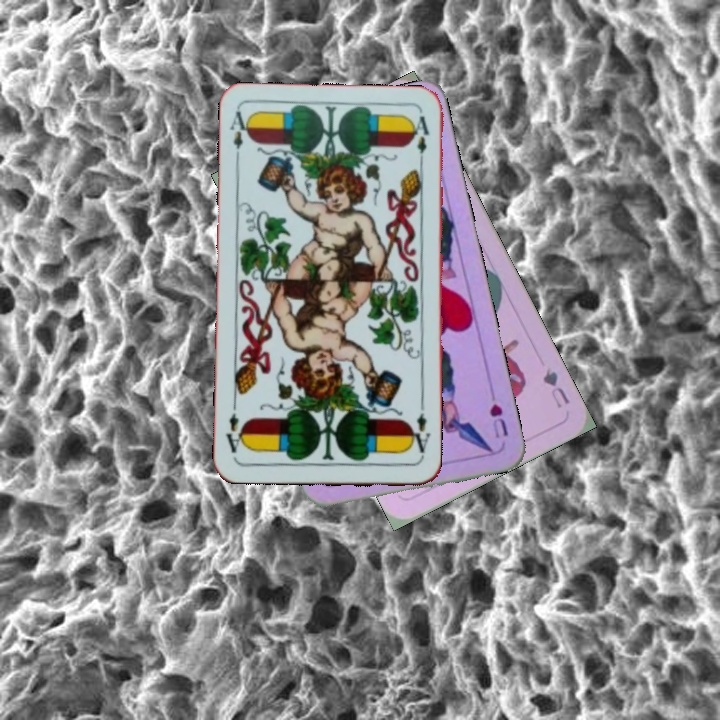EA: (406, 401, 433, 460), (226, 107, 253, 166)
GU: (538, 364, 572, 411)
HU: (485, 399, 511, 441)
